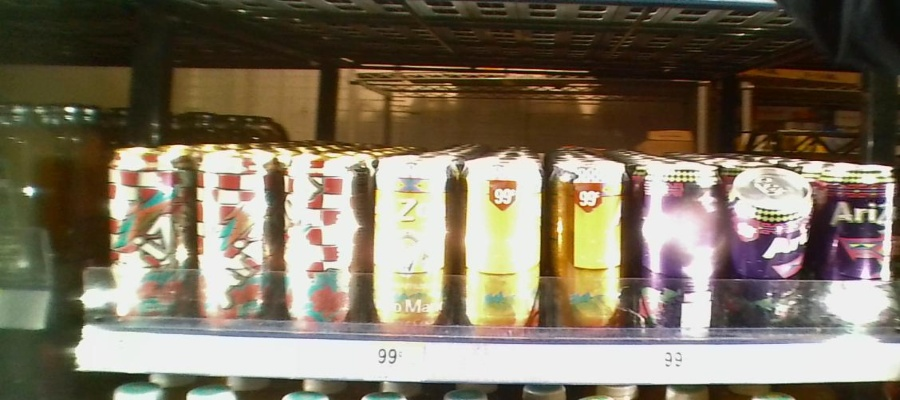bottle: (632, 152, 725, 348), (725, 156, 813, 352), (192, 144, 280, 335), (280, 145, 368, 333), (102, 146, 190, 330), (455, 150, 541, 335), (547, 151, 626, 347), (816, 155, 897, 342), (369, 152, 446, 335)
